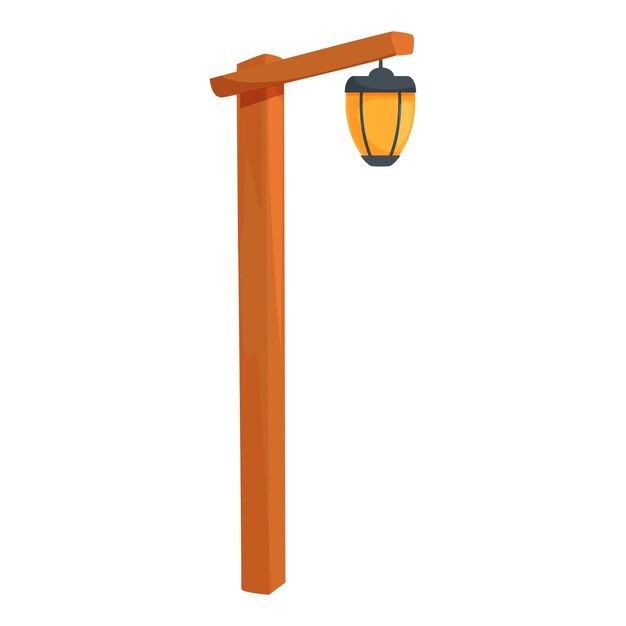light_pole: (226, 37, 316, 616)
